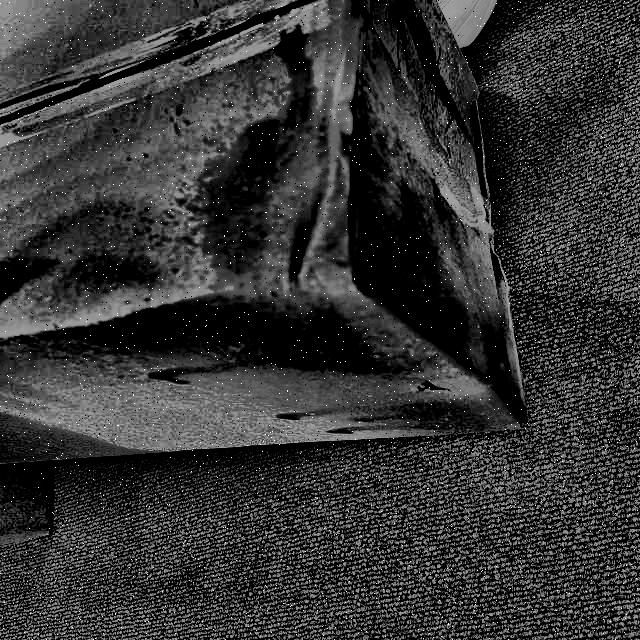box: (0, 0, 532, 464)
wet: (135, 109, 517, 435)
